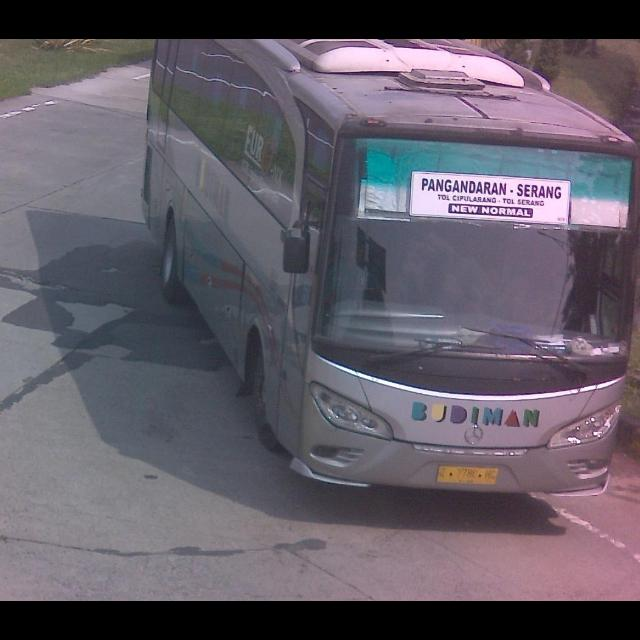plate: (437, 464, 499, 488)
